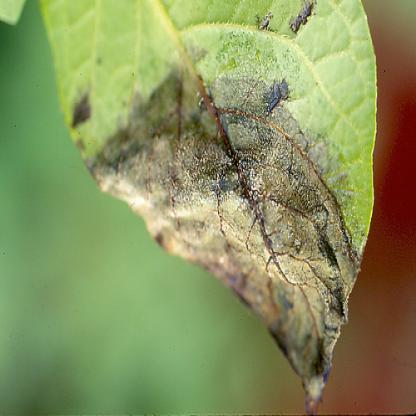Potato leaf early blight: (42, 1, 378, 414)
